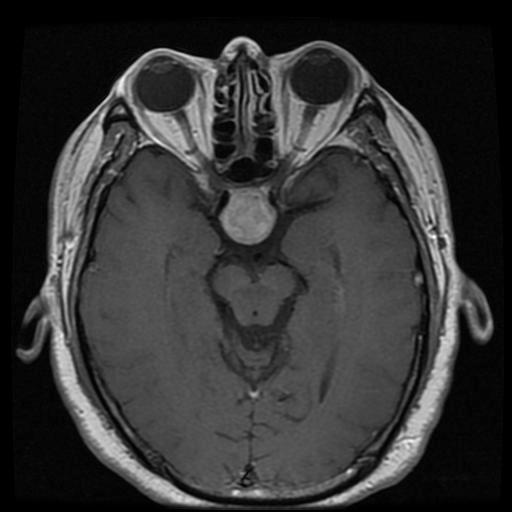Tumour-Pituitary: (199, 176, 297, 258)
